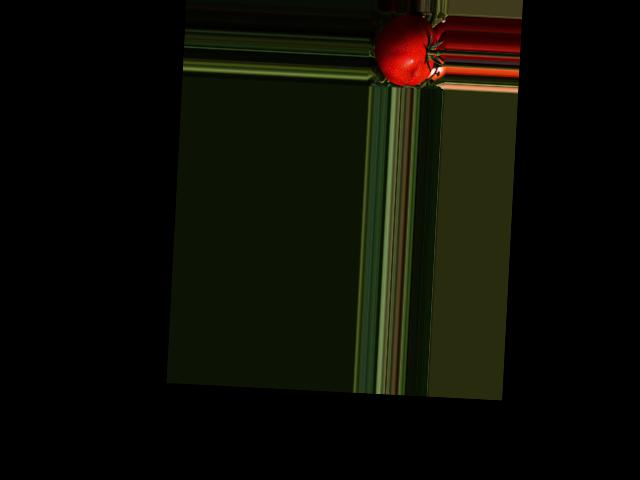tomato: (373, 13, 437, 87)
